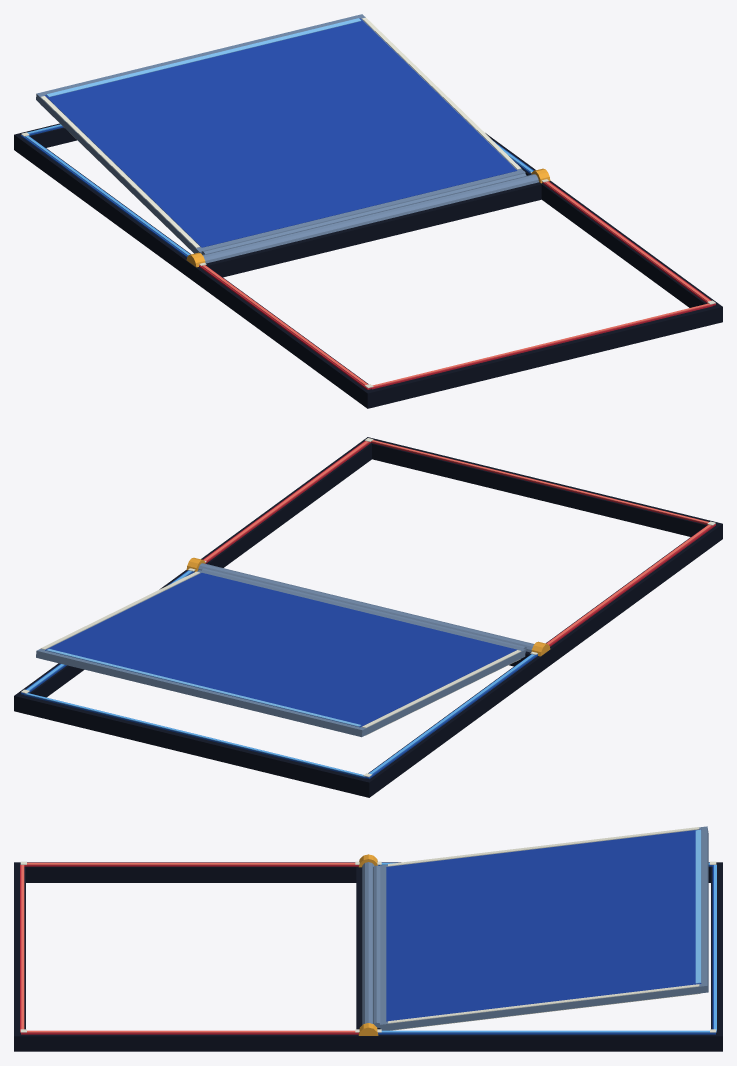
The model's file is jump_flip_pair_flip_01.obj.
3 renders of one model, top to bottom at view 1: azimuth 30°, elevation 25°; view 2: azimuth 150°, elevation 25°; view 3: azimuth 270°, elevation 25°, orthographic.
Visible parts, largest first — view 1: blue_top, red_end_shell, red_side_shell, reversible_leaf, blue_side_shell, hinge_axle, red_border, red_rim_light, blue_side_trim, leaf_hinge, blue_end_bar, blue_border (+2 smaller); view 2: blue_top, red_side_shell, blue_end_shell, red_end_shell, reversible_leaf, blue_side_shell, red_rim_light, red_border, hinge_axle, blue_rim_light, blue_border, blue_side_trim (+2 smaller); view 3: blue_top, red_side_shell, blue_side_shell, reversible_leaf, red_end_shell, red_border, red_rim_light, blue_side_trim, hinge_axle, blue_rim_light, blue_end_shell, blue_border (+3 smaller).
Boxes of the visible parts, box(x1,y1,x2,y2) form: blue_top: box(45, 18, 517, 247); red_end_shell: box(191, 181, 722, 408); red_side_shell: box(191, 181, 722, 408); reversible_leaf: box(36, 14, 525, 253); blue_side_shell: box(14, 132, 535, 278); hinge_axle: box(202, 174, 538, 263); red_border: box(199, 181, 715, 389); red_rim_light: box(202, 181, 710, 387); blue_side_trim: box(40, 17, 521, 247); leaf_hinge: box(201, 172, 526, 254); blue_end_bar: box(46, 18, 361, 97); blue_border: box(21, 126, 533, 257); blue_top: box(45, 573, 516, 727); red_side_shell: box(201, 437, 722, 668); blue_end_shell: box(14, 570, 545, 797); red_end_shell: box(362, 438, 722, 660); reversible_leaf: box(36, 570, 525, 737); blue_side_shell: box(14, 570, 545, 797); red_rim_light: box(204, 440, 711, 644); red_border: box(203, 441, 715, 646); hinge_axle: box(198, 563, 534, 652); blue_rim_light: box(25, 570, 534, 776); blue_border: box(21, 570, 537, 778); blue_side_trim: box(40, 571, 521, 727); blue_top: box(386, 829, 701, 1021); red_side_shell: box(14, 862, 368, 1051); blue_side_shell: box(368, 862, 722, 1051); reversible_leaf: box(380, 826, 708, 1030); red_end_shell: box(14, 863, 367, 1051); red_border: box(20, 862, 358, 1034); red_rim_light: box(21, 863, 355, 1032); blue_side_trim: box(388, 827, 699, 1023); hinge_axle: box(362, 862, 374, 1024); blue_rim_light: box(381, 863, 716, 1032); blue_end_shell: box(369, 862, 722, 1051); blue_border: box(378, 862, 716, 1034).
Size of the model in its own units: 11.6 by 1.82 by 20.
